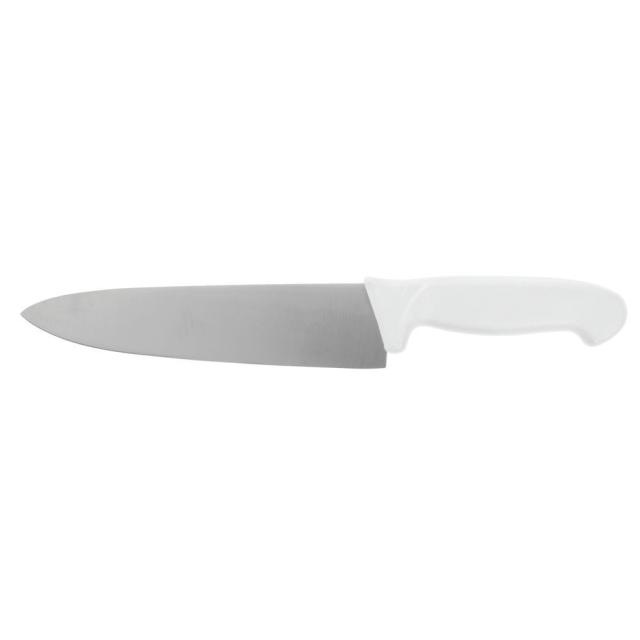Knife: (20, 274, 627, 369)
